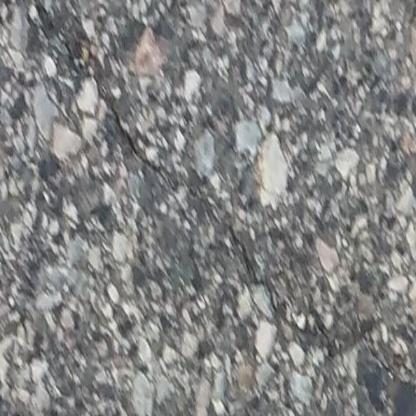Cracks: (15, 0, 416, 396)
